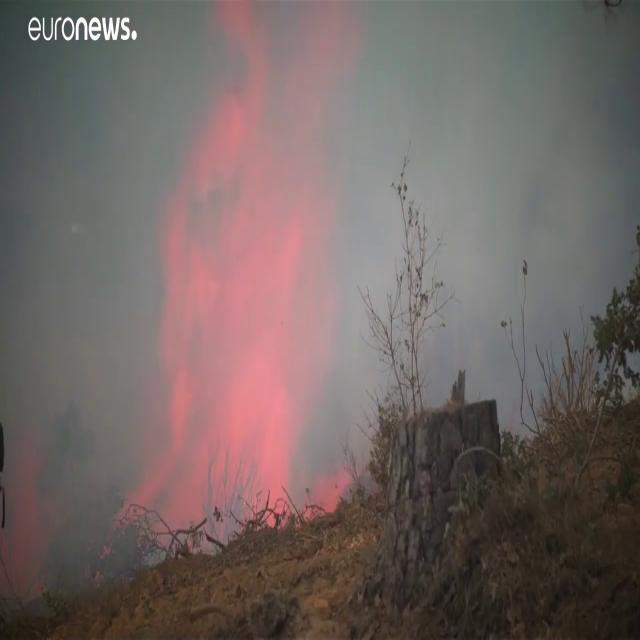Fire: (169, 165, 284, 471)
